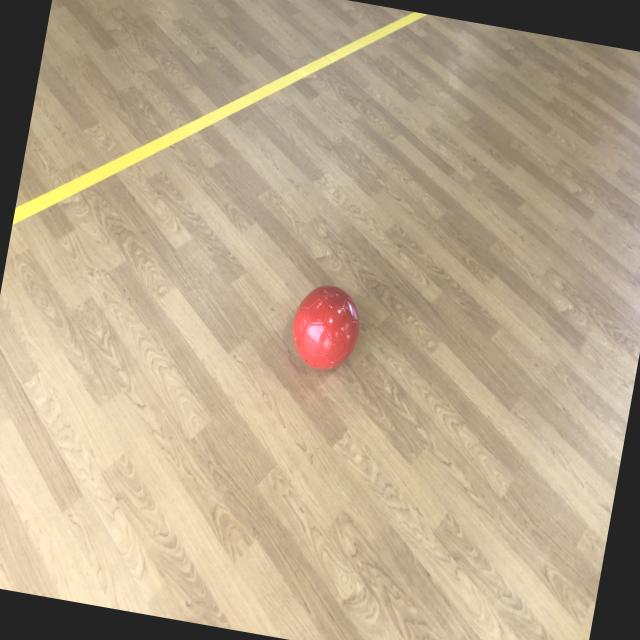red_ball: (287, 280, 365, 376)
